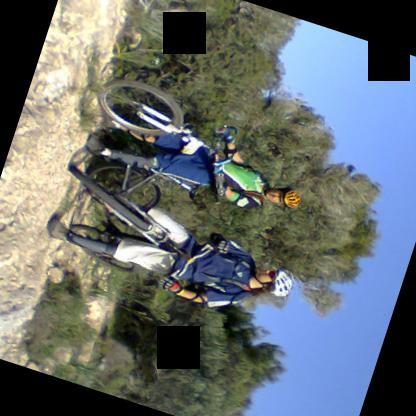backpack: (207, 253, 252, 291), (236, 191, 265, 204)
